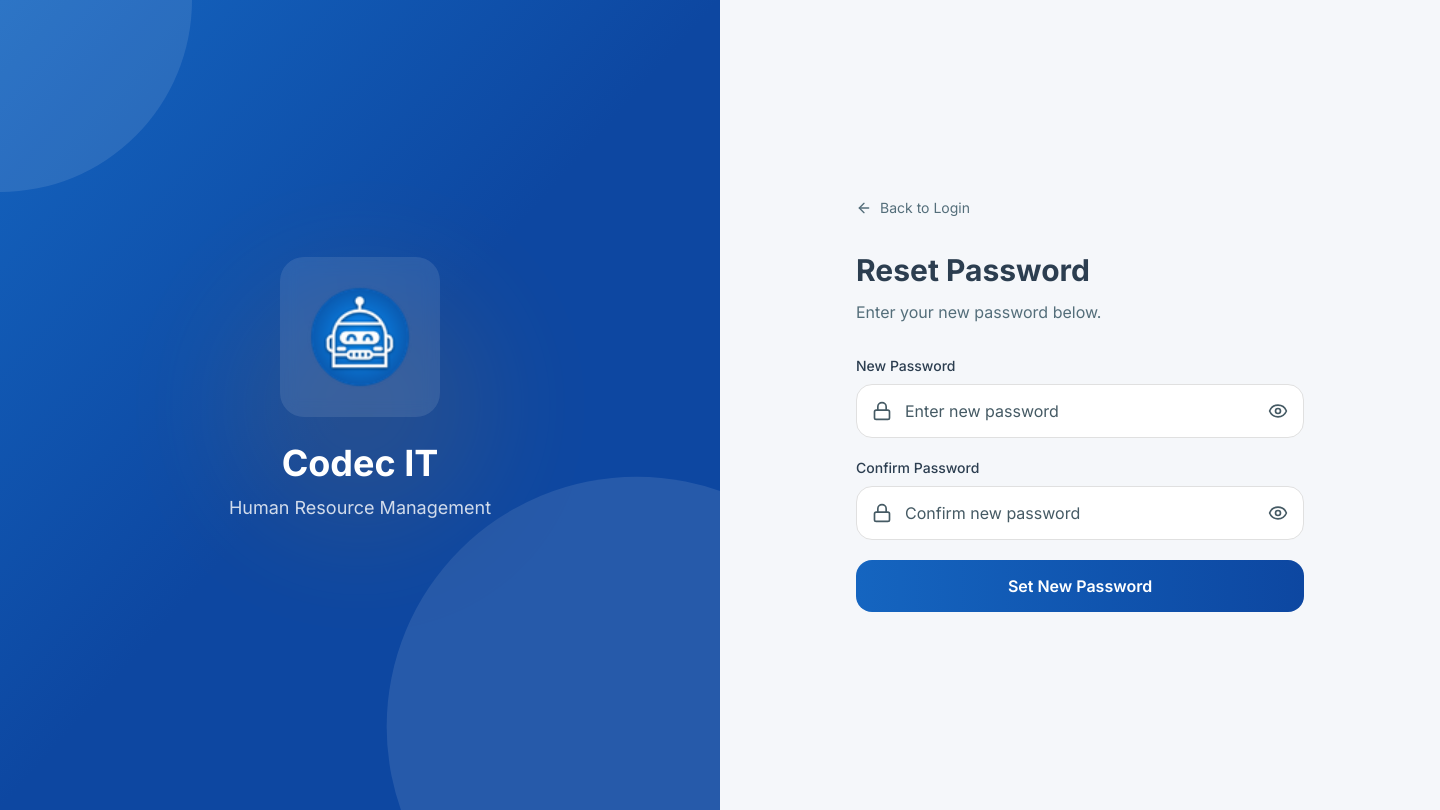
Test: ResetPassword › displays error message on API failure
The width and height of the screenshot is (1440, 810).
Type "password123" into the password field labelled "New Password" at [1080, 411], box [856,384,1304,438]
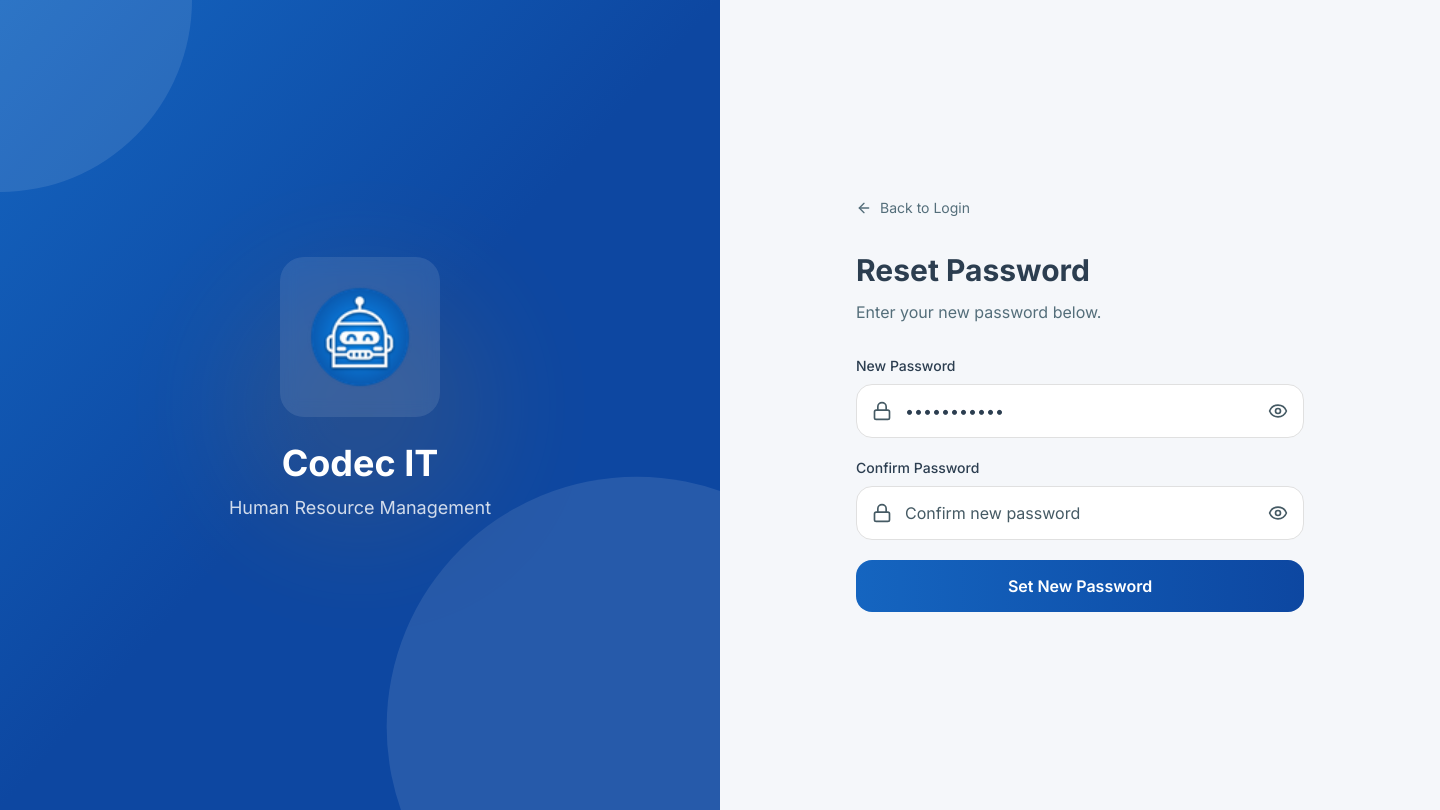
Type "password123" into the password field labelled "Confirm Password" at [1080, 513], box [856,486,1304,540]
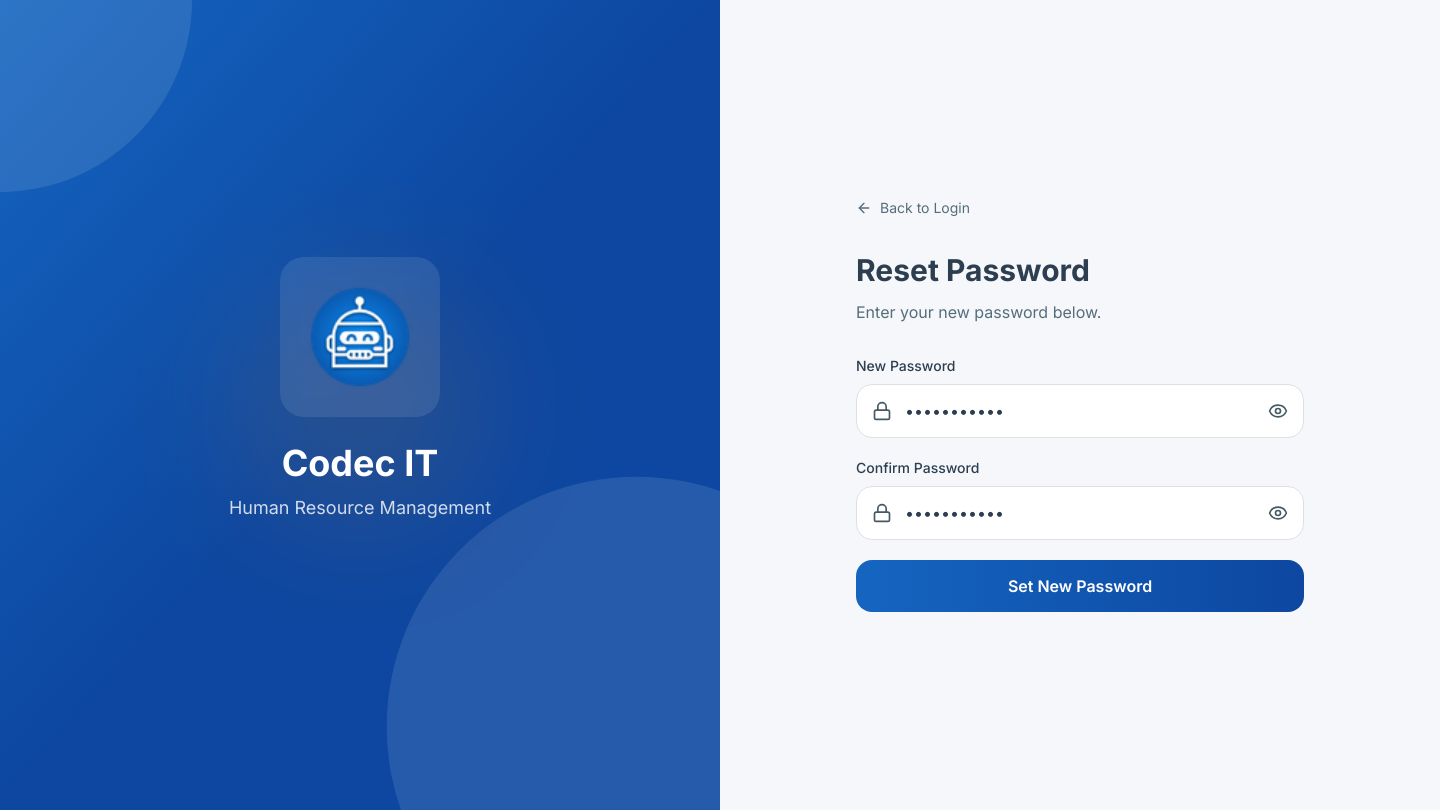
Click the button "Set New Password" at [1080, 586], box [856,560,1304,612]
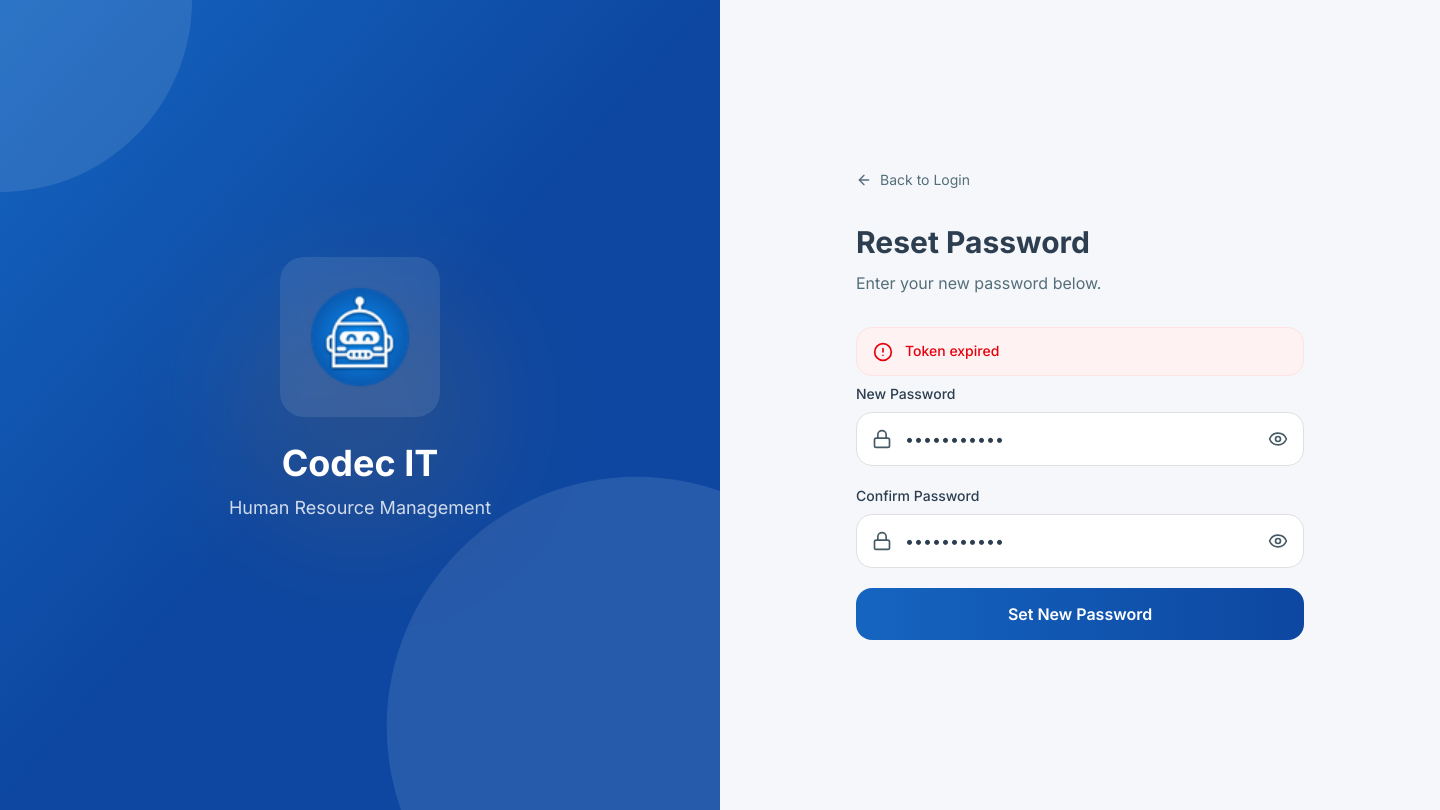
expect the text "Token expired" is shown: met, box [905,340,999,363]
